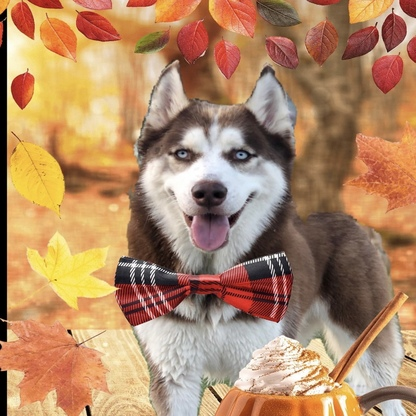husky: (101, 56, 411, 416)
